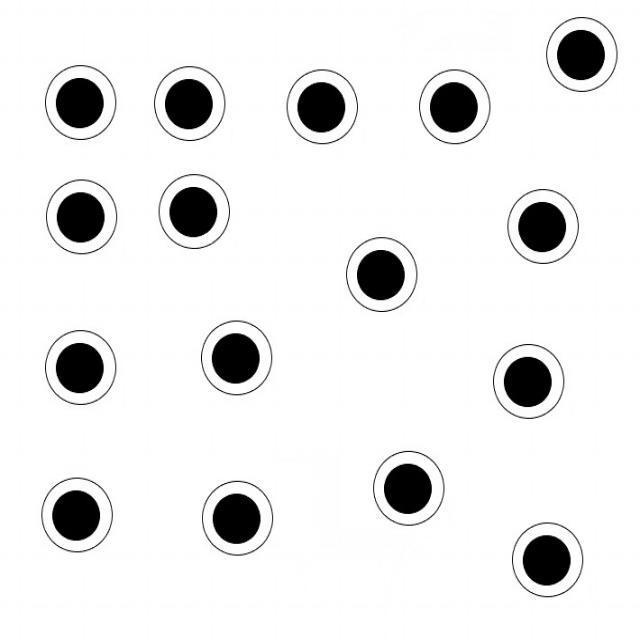radio: (336, 226, 424, 324), (188, 314, 282, 402), (409, 59, 493, 157), (32, 176, 126, 260), (496, 182, 586, 269), (35, 470, 120, 562), (36, 326, 126, 411), (542, 6, 623, 100), (369, 441, 454, 530), (507, 518, 590, 606), (38, 64, 120, 146), (283, 64, 362, 148), (490, 338, 567, 423), (154, 174, 234, 254), (151, 66, 229, 147), (200, 475, 277, 557)
